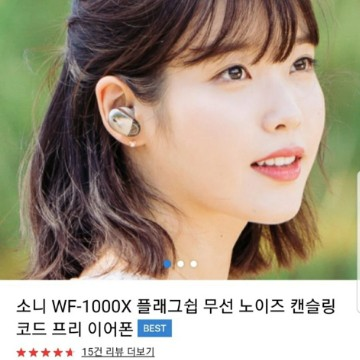earphone: (94, 76, 147, 147)
